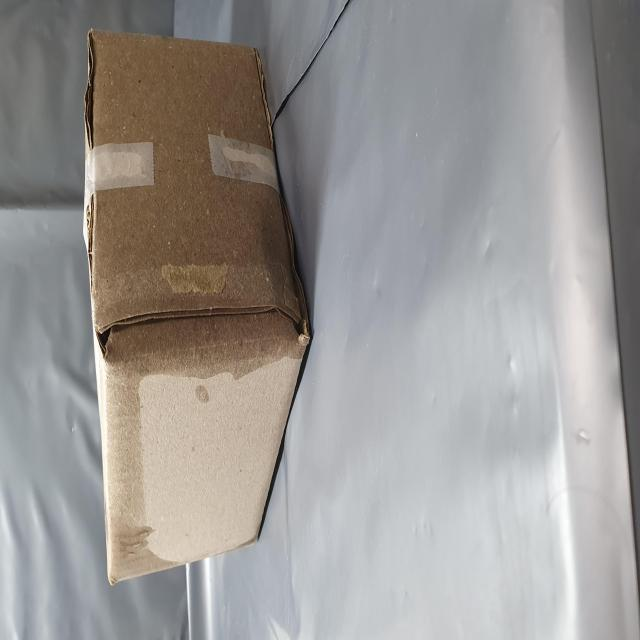wet: (29, 171, 336, 533)
